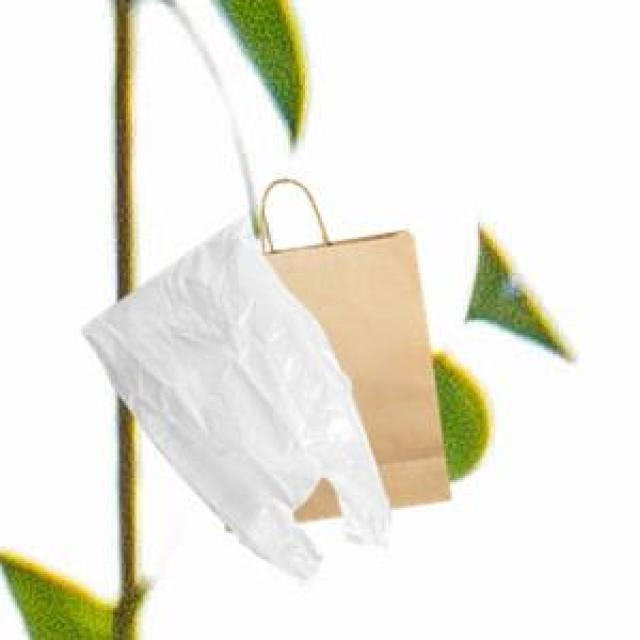paper: (258, 218, 446, 518)
